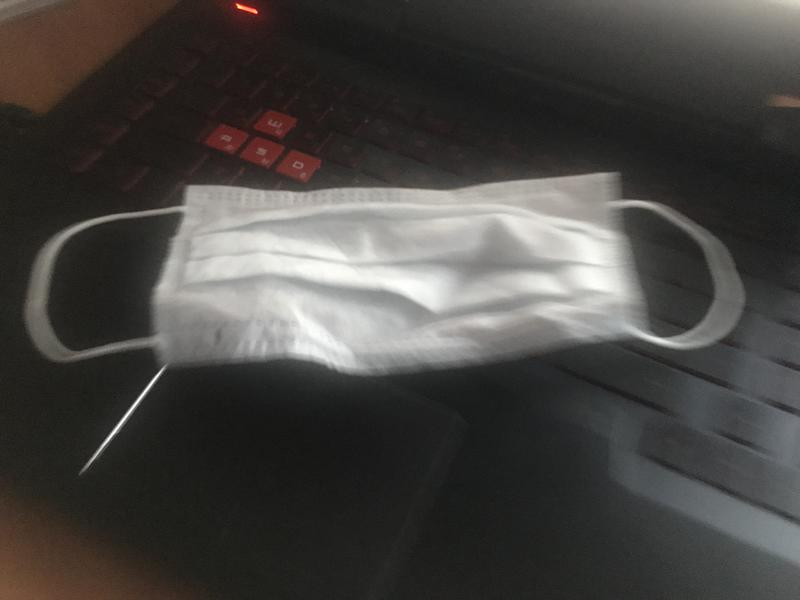medical_mask: (28, 181, 740, 355)
